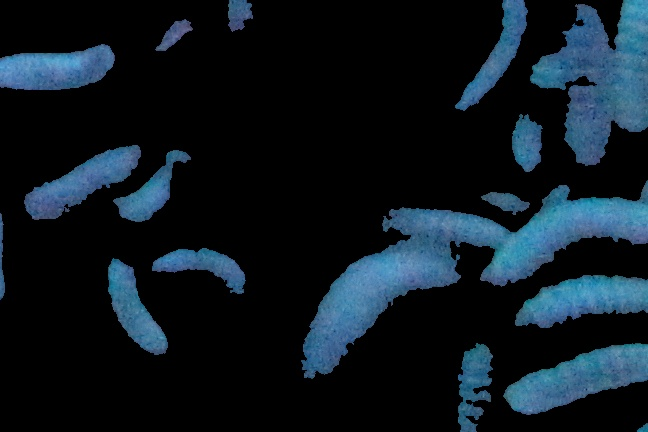larvae: (299, 247, 458, 380), (481, 194, 648, 287), (503, 340, 648, 417), (25, 142, 145, 224), (451, 1, 529, 114), (561, 3, 616, 163), (95, 255, 169, 358), (515, 277, 648, 331), (377, 199, 507, 251), (512, 49, 564, 172), (1, 43, 118, 94), (154, 246, 250, 298), (610, 3, 648, 134), (454, 337, 495, 432)
